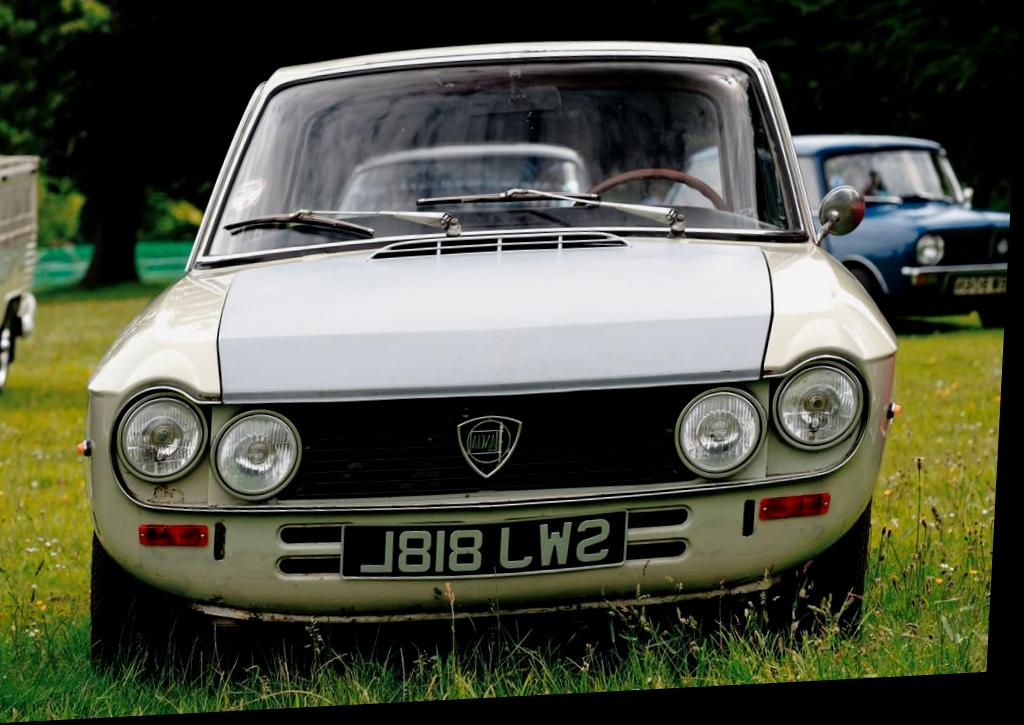License_Plate: (341, 511, 628, 585), (952, 273, 1007, 301)
